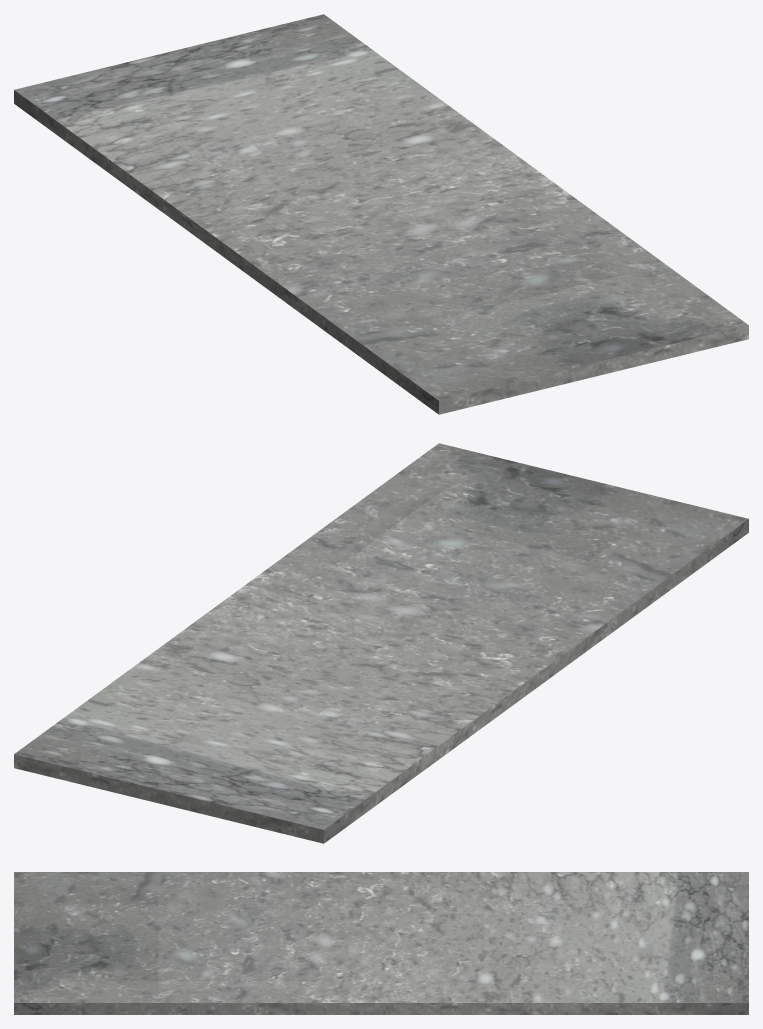
The model's file is countertop-four.glb.
The picture shows the model from 3 angles, top to bottom: view 1: azimuth 30°, elevation 25°; view 2: azimuth 150°, elevation 25°; view 3: azimuth 270°, elevation 25°; orthographic projection. The views are drawn at different scales.
Visible parts, largest first — view 1: Cube.038; view 2: Cube.038; view 3: Cube.038.
Part boxes in pixels (<box>): Cube.038: <box>14,14,748,414</box>; Cube.038: <box>14,443,748,843</box>; Cube.038: <box>14,872,748,1014</box>.
Size of the model in its own units: 0.4699 by 0.02 by 1.12.
1 material, 1 textured.
